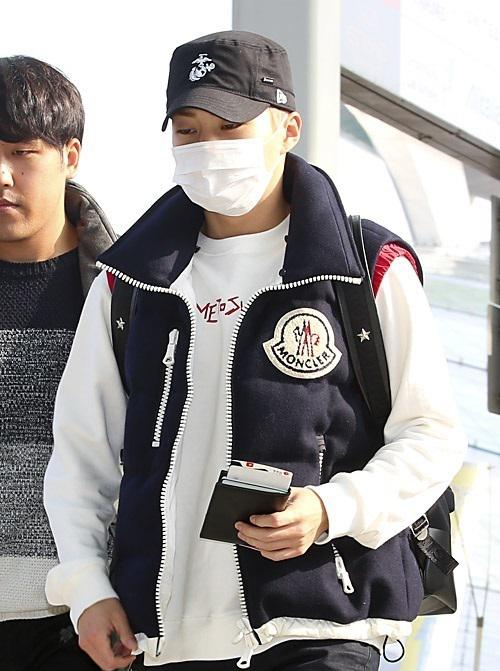NONE: (1, 138, 65, 234)
OK: (165, 102, 270, 207)
